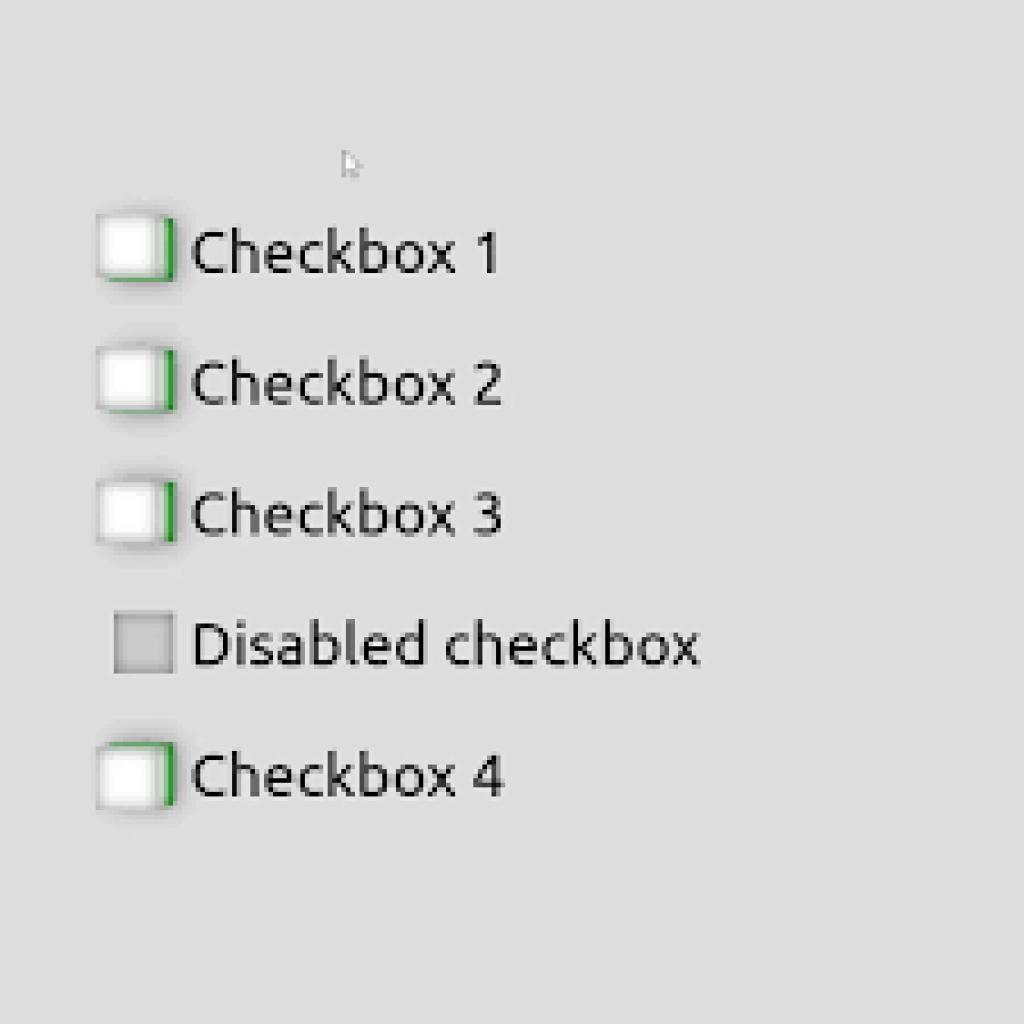checkbox: (93, 733, 182, 821), (90, 340, 183, 424), (91, 209, 181, 292), (92, 474, 184, 555), (106, 607, 187, 682)
